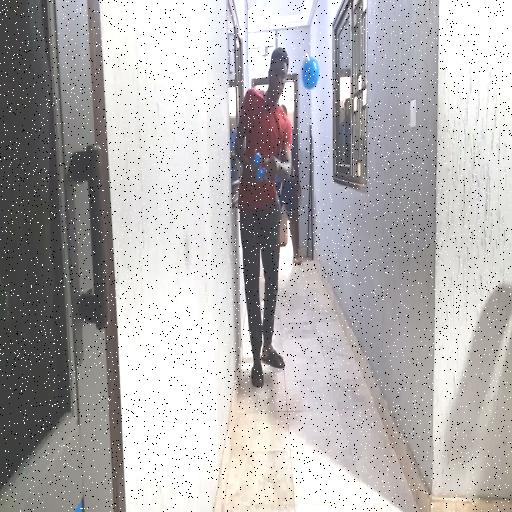plastic-ball: (301, 54, 320, 92)
